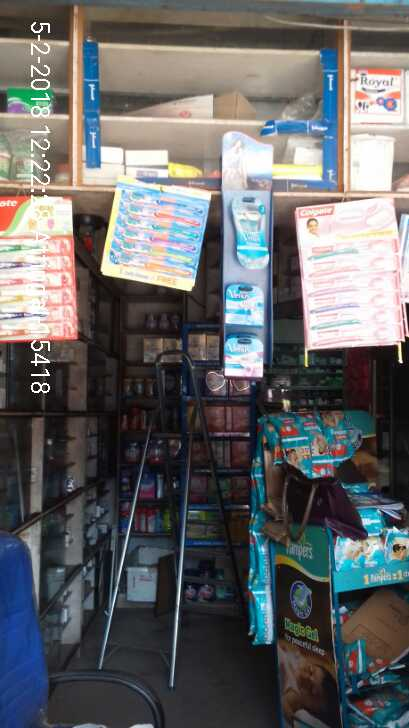beauty: (230, 206, 279, 274), (221, 278, 276, 330), (221, 339, 269, 383)
pampers: (265, 406, 356, 481)
